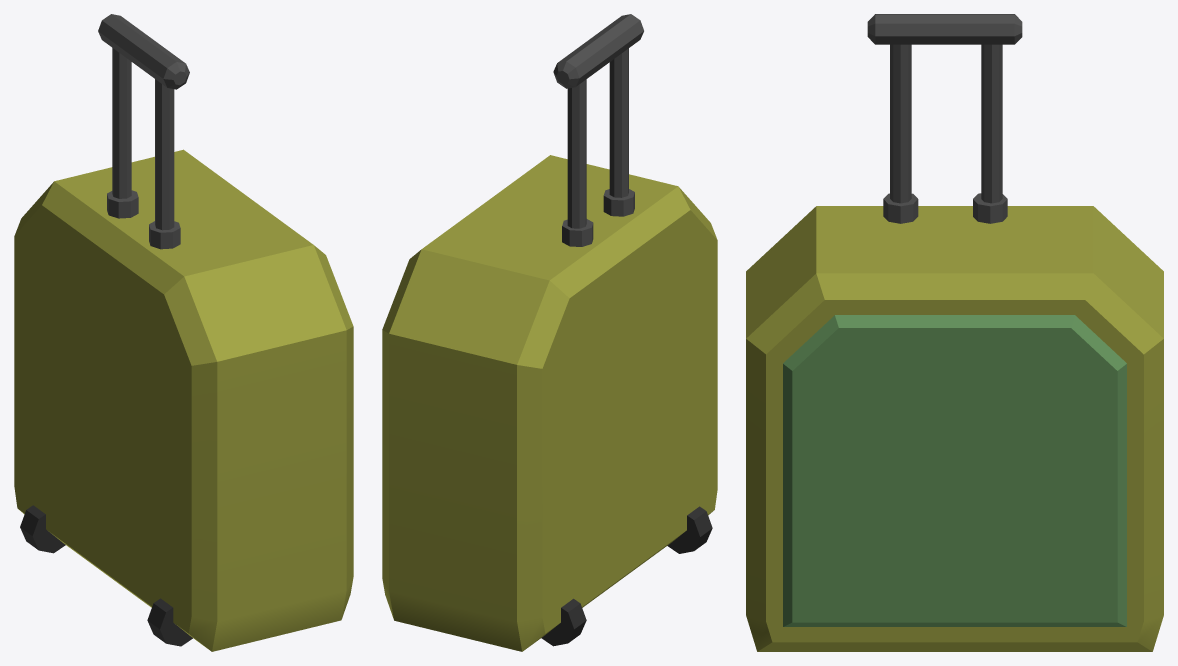
File: Luggage_2.fbx
3 views of the same model, side by side, from view 1: azimuth 30°, elevation 25°; view 2: azimuth 150°, elevation 25°; view 3: azimuth 270°, elevation 25° (orthographic). The views are drawn at different scales.
Visible parts, largest first — view 1: pCylinder12; view 2: pCylinder12; view 3: pCylinder12.
Boxes of the visible parts, x1,y1,x2,y2 form: pCylinder12: (14, 14, 353, 651); pCylinder12: (382, 14, 717, 651); pCylinder12: (746, 14, 1163, 651).
Bounding box in the file's own units: 2.93 × 8.48 × 5.44.
